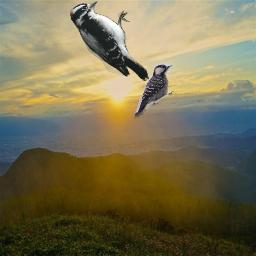Woodpecker: (70, 1, 149, 81), (131, 61, 177, 120)
